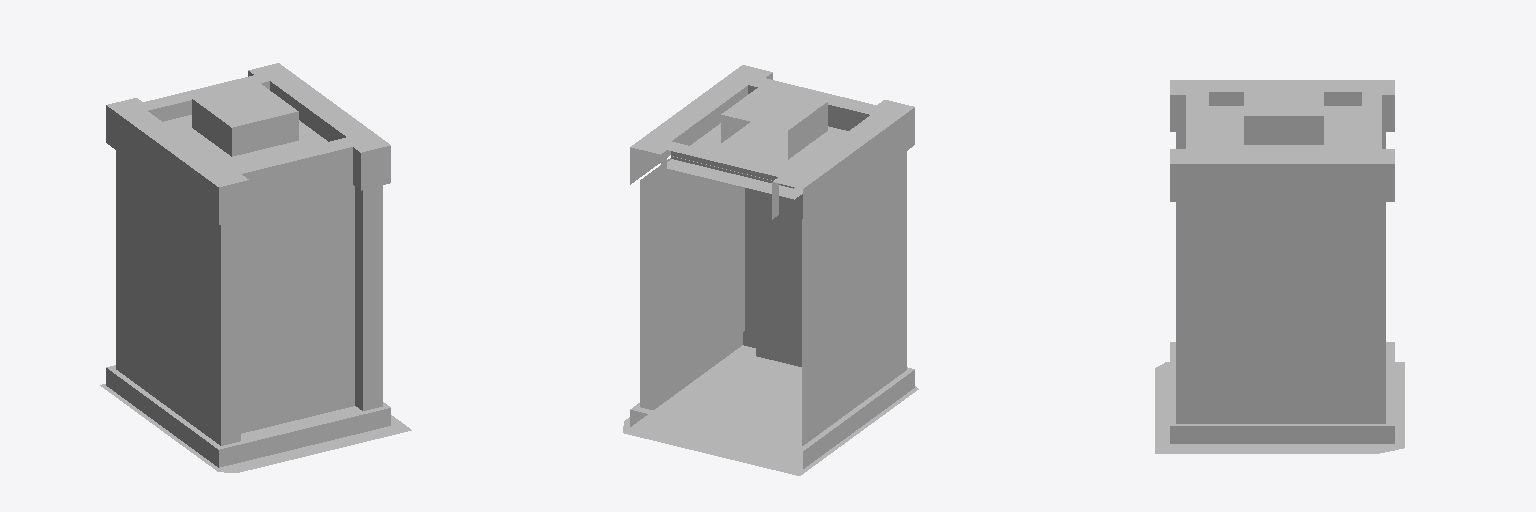
Rendered from Jubilife City Building 5.obj.
3 views of the same model, side by side, from view 1: azimuth 30°, elevation 25°; view 2: azimuth 150°, elevation 25°; view 3: azimuth 270°, elevation 25° (orthographic).
Visible parts, largest first — view 1: polygon2, polygon1; view 2: polygon2, polygon1, polygon0; view 3: polygon2, polygon1.
Boxes of the visible parts, <box> form: polygon2: <box>106,63,390,467</box>; polygon1: <box>100,115,411,472</box>; polygon2: <box>630,65,914,468</box>; polygon1: <box>623,122,918,475</box>; polygon0: <box>756,190,802,366</box>; polygon2: <box>1170,80,1394,443</box>; polygon1: <box>1155,106,1404,453</box>.
Bounding box in the file's own units: 67.7 × 104 × 77.61.